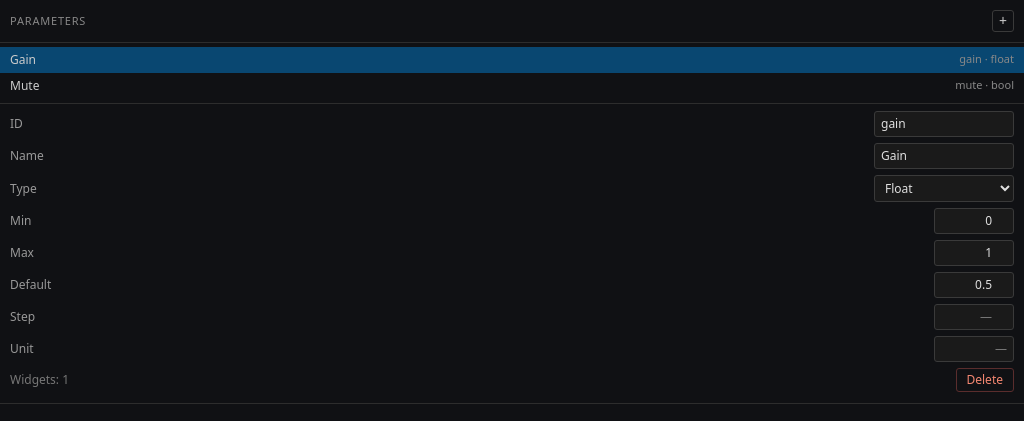
Test: ParametersPanel › renames a parameter without asking when only the name changes
Replace the text in the field in the row of "Name" with "Volume": (944, 156) left=874, top=143, right=1014, bottom=169
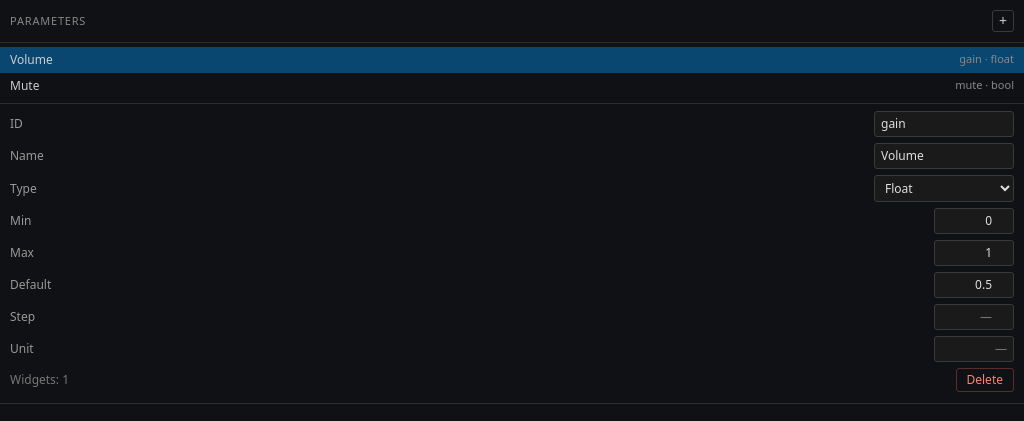
expect the text "Volume" is shown: met, box left=10, top=51, right=53, bottom=69
